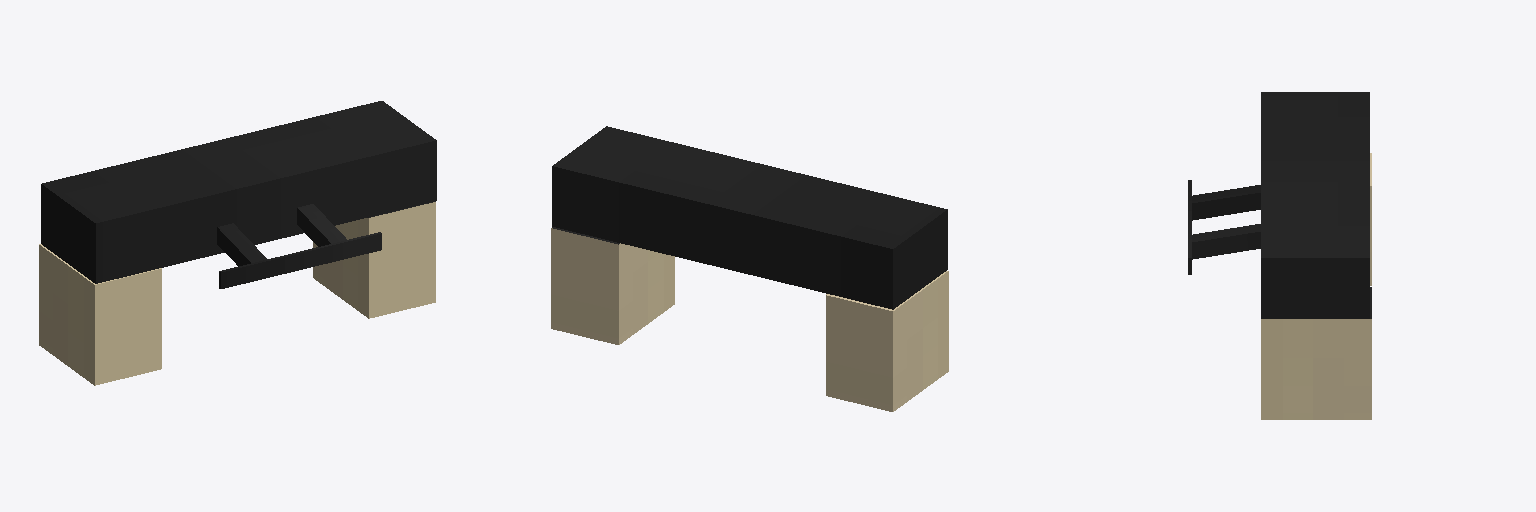
3 renders of one model, left to right at view 1: azimuth 30°, elevation 25°; view 2: azimuth 150°, elevation 25°; view 3: azimuth 270°, elevation 25°, orthographic.
Visible parts, largest first — view 1: Parte_Trasera; view 2: Parte_Trasera; view 3: Parte_Trasera.
Boxes of the visible parts, x1=… form: Parte_Trasera: x1=39, y1=101, x2=436, y2=385; Parte_Trasera: x1=551, y1=126, x2=948, y2=411; Parte_Trasera: x1=1188, y1=92, x2=1371, y2=419.
Size of the model in its own units: 17.75 by 8.03 by 8.26.
Materials: 1 (1 with a texture image).